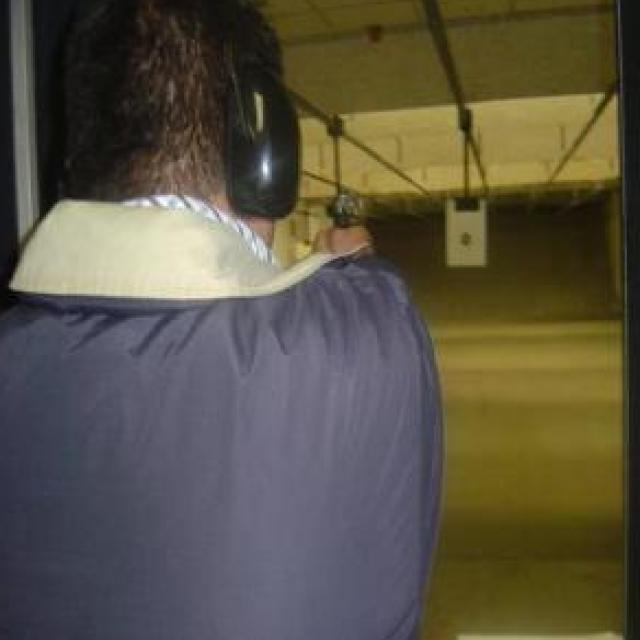pistol: (324, 188, 360, 224)
